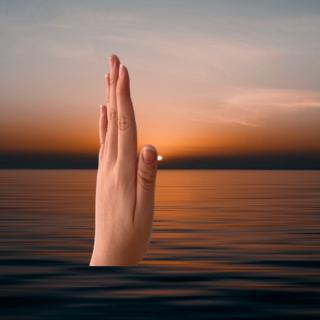Right: (81, 48, 158, 264)
